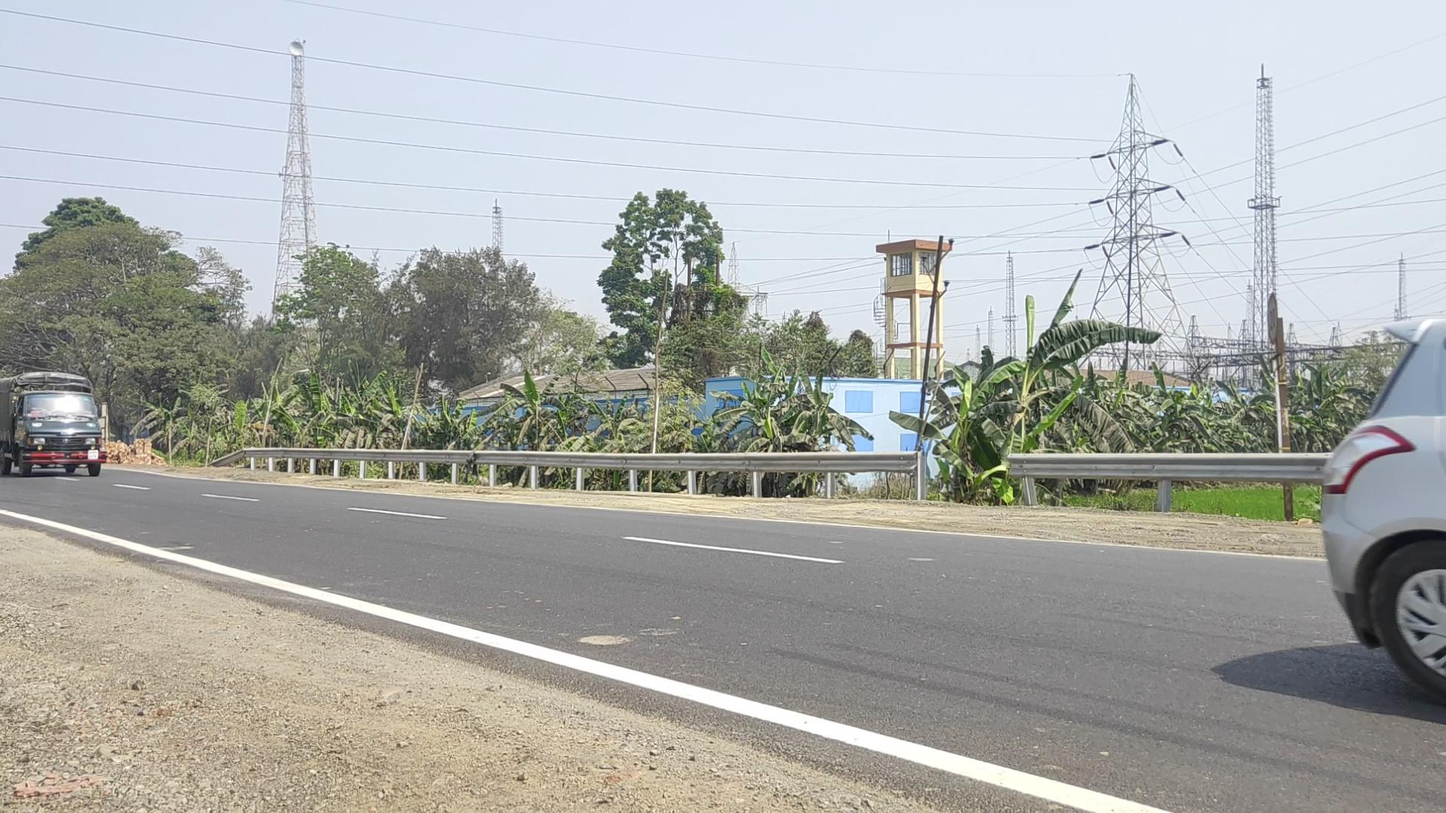truck: (1, 372, 107, 477)
